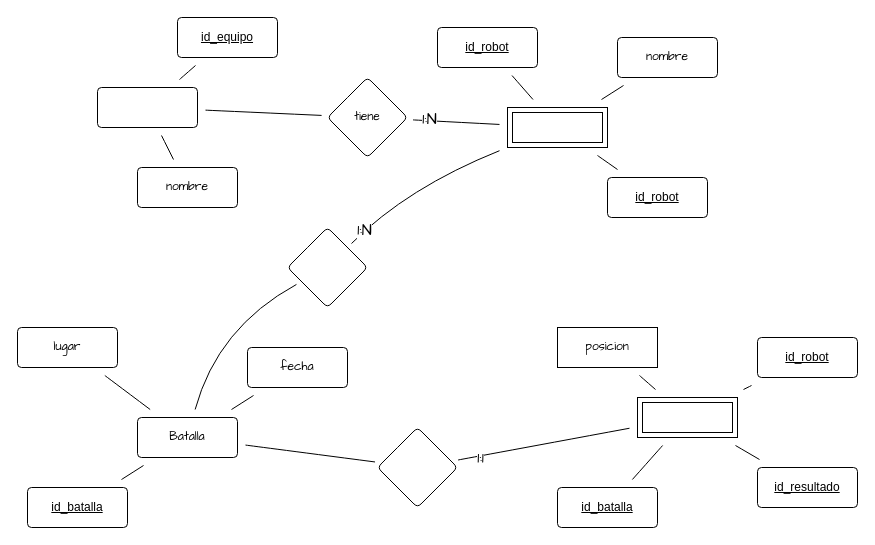
Some shapes in this 875 by 545 pixel diagram are drawn without their labels. The box of each missing label's shape, as (x1, y1, x2, y2) in pixels:
decide: (376, 426, 458, 508)
Equipo: (96, 86, 198, 128)
esta: (286, 226, 368, 308)
Resultado: (636, 396, 738, 438)
Robot: (506, 106, 608, 148)
